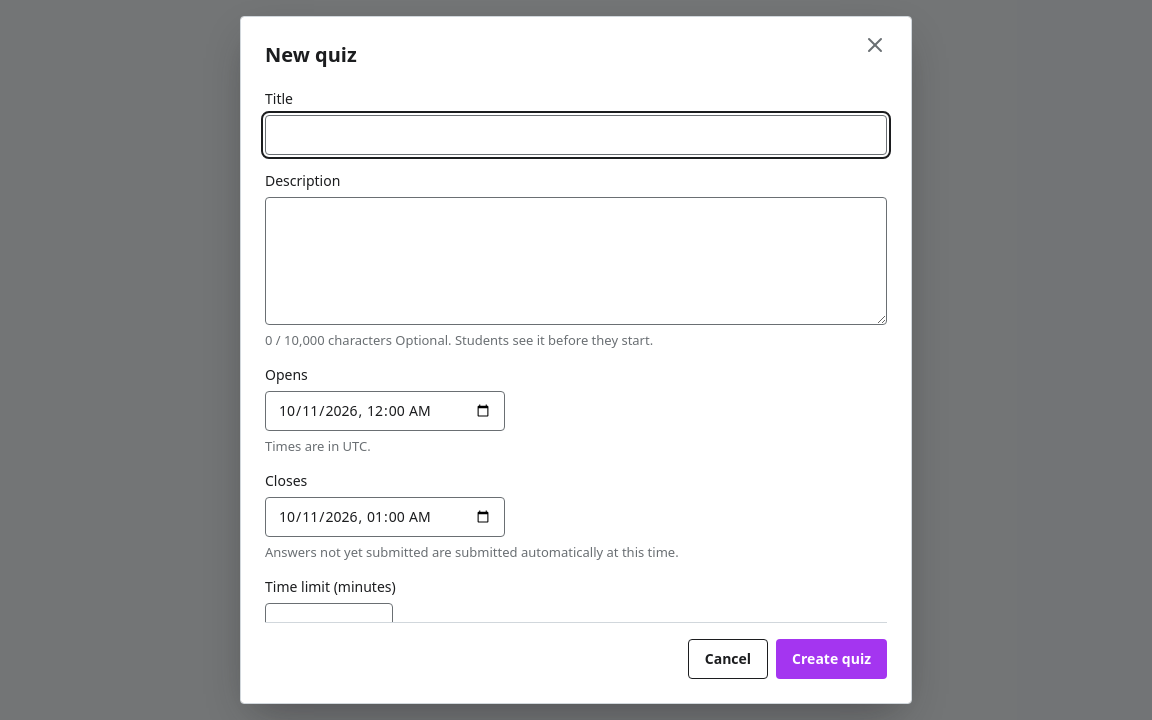
Scenario: refuses quiz Time limit (minutes)=0 without a request
Step 1. Type "T" into the field labelled "Title" → [576, 135], box x1=265 y1=115 x2=887 y2=155
(page scrolled)
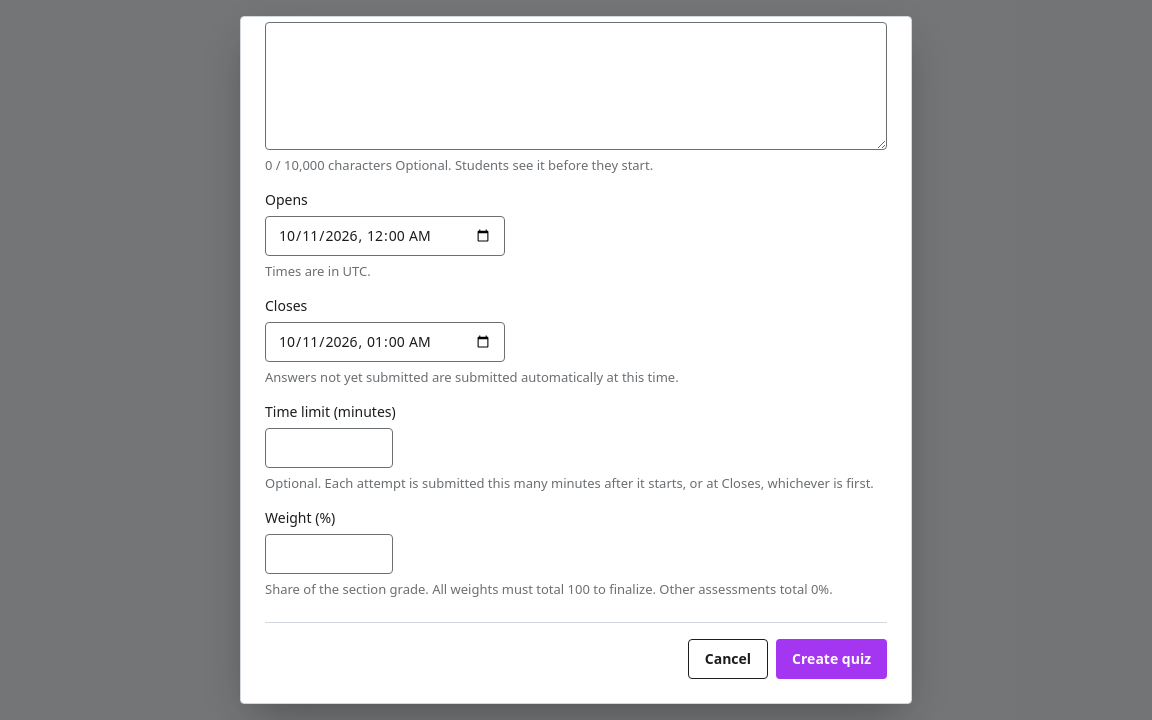
Step 2. Type "40" into the field labelled "Weight (%)" → [329, 554], box x1=265 y1=534 x2=393 y2=574
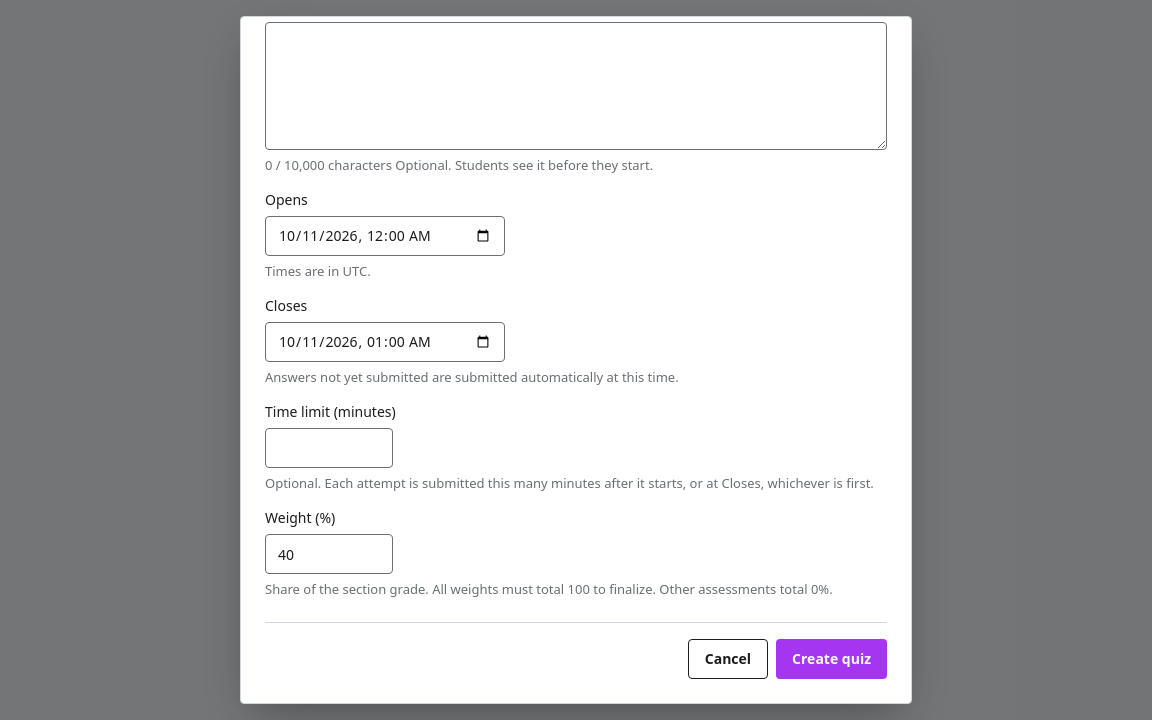
Step 3. Type "0" into the field labelled "Time limit (minutes)" → [329, 448], box x1=265 y1=428 x2=393 y2=468
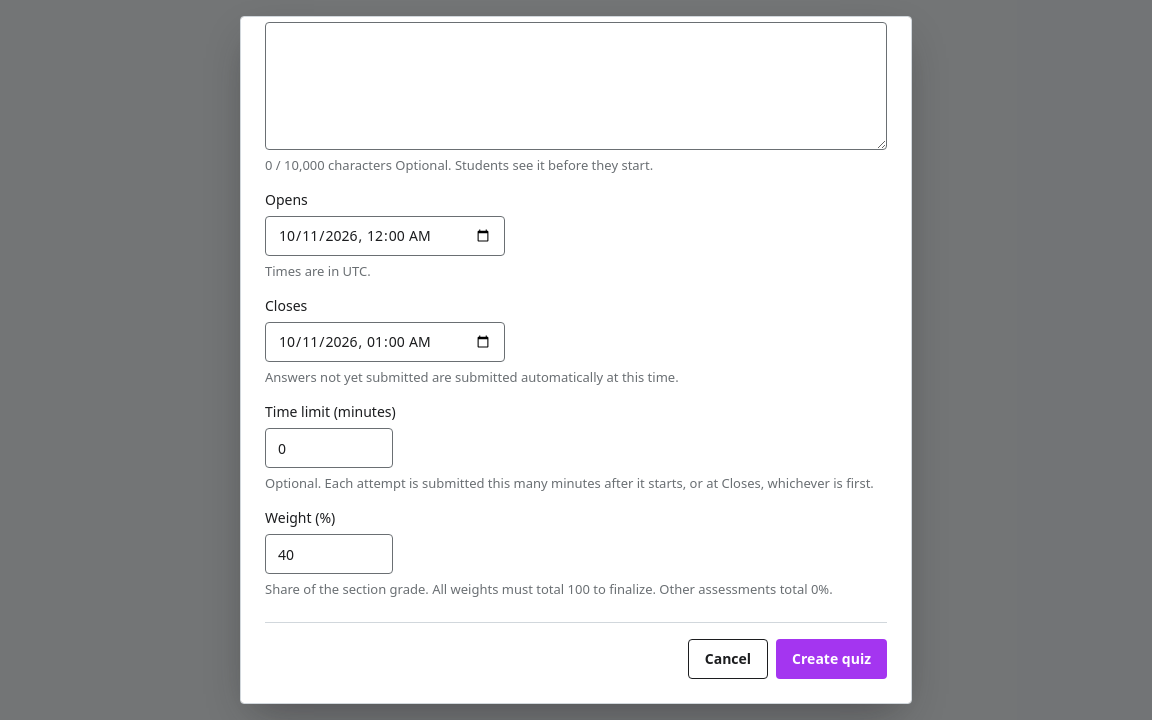
Step 4. Click the button "Create quiz" → [832, 659], box x1=776 y1=639 x2=887 y2=679
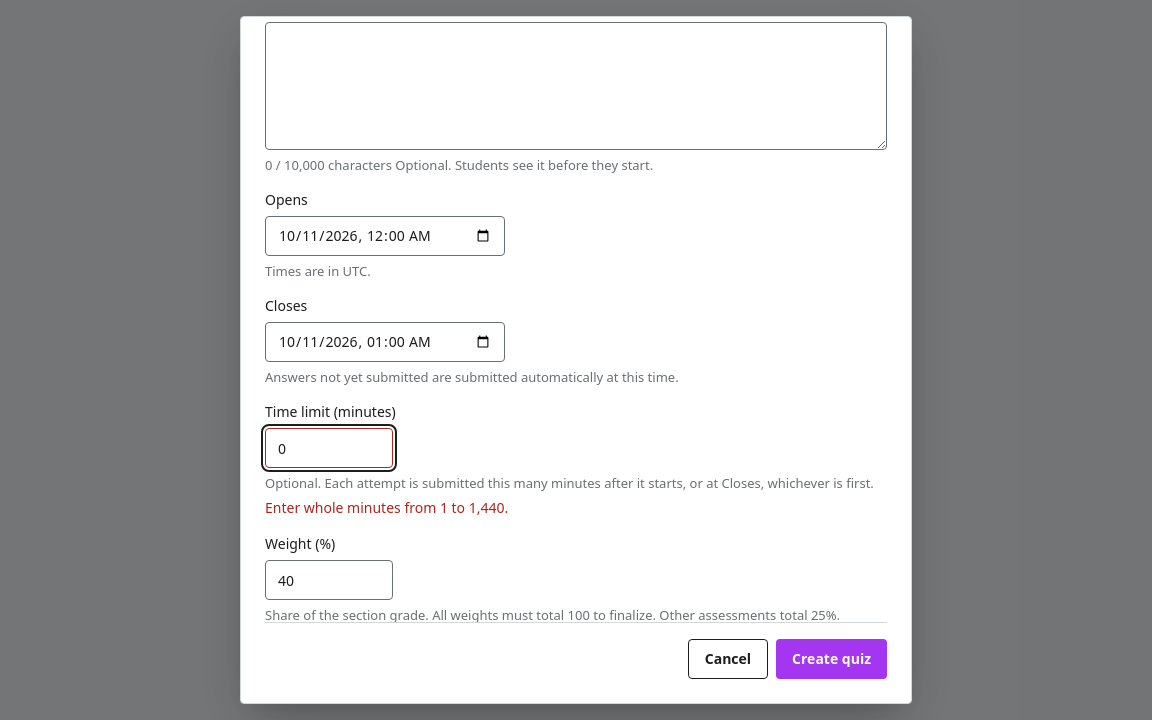
Result: the text "Enter whole minutes from 1 to 1,440." is shown at x1=264 y1=497 x2=508 y2=517
